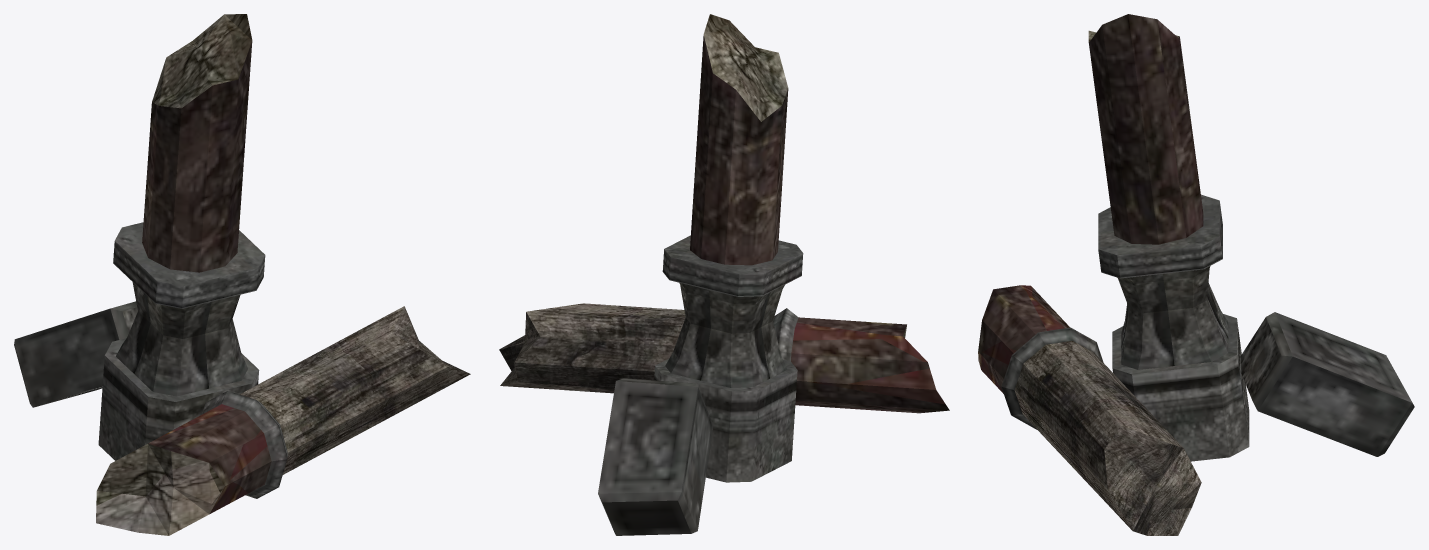
Rendered from TW2_9_ADDONS_12_5_1-transformed.glb.
The picture shows the model from 3 angles, left to right: view 1: azimuth 30°, elevation 25°; view 2: azimuth 150°, elevation 25°; view 3: azimuth 270°, elevation 25°; orthographic projection. The views are drawn at different scales.
Parts seen in each view (by area): view 1: default; view 2: default; view 3: default.
Boxes of the visible parts, bbox=[...] form: default: bbox=[14, 14, 470, 535]; default: bbox=[499, 14, 949, 535]; default: bbox=[978, 14, 1414, 535].
Size of the model in its own units: 2.67 by 2.74 by 2.39.
4 materials, 4 textured.
